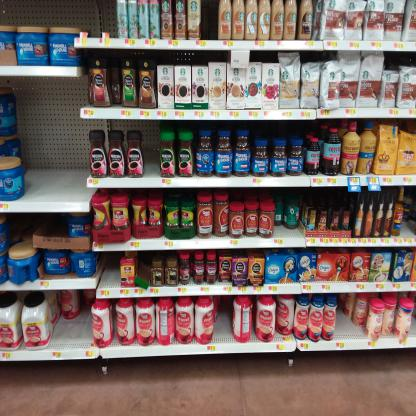Void: (18, 83, 86, 201), (0, 0, 106, 25), (59, 320, 90, 350), (340, 305, 360, 341), (143, 126, 158, 174), (201, 3, 218, 37), (404, 191, 415, 242), (217, 300, 229, 339), (278, 226, 302, 242)
